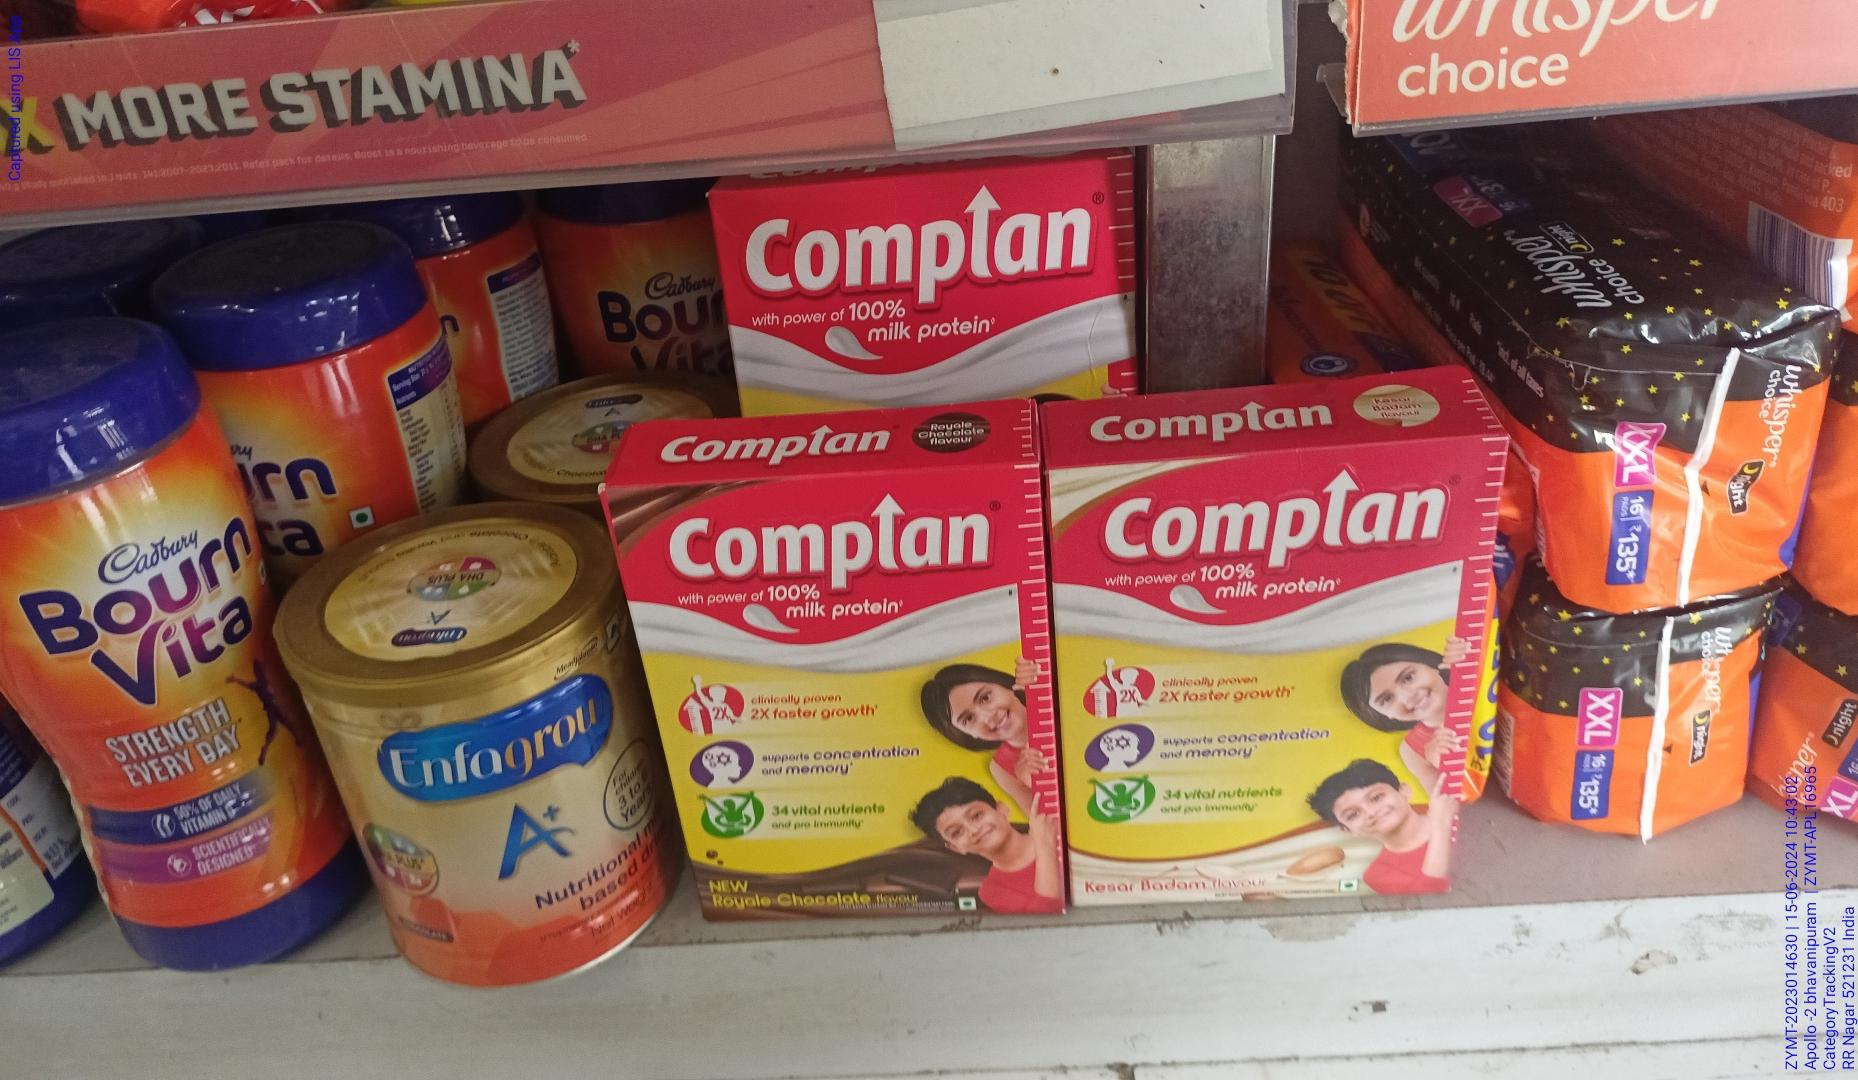COMPLAN_CHOCOLATE_500_GMS_PACK: (651, 464, 1045, 922)
COMPLAN_KESAR_BADAM_500_GMS_PACK: (1071, 458, 1449, 905)
